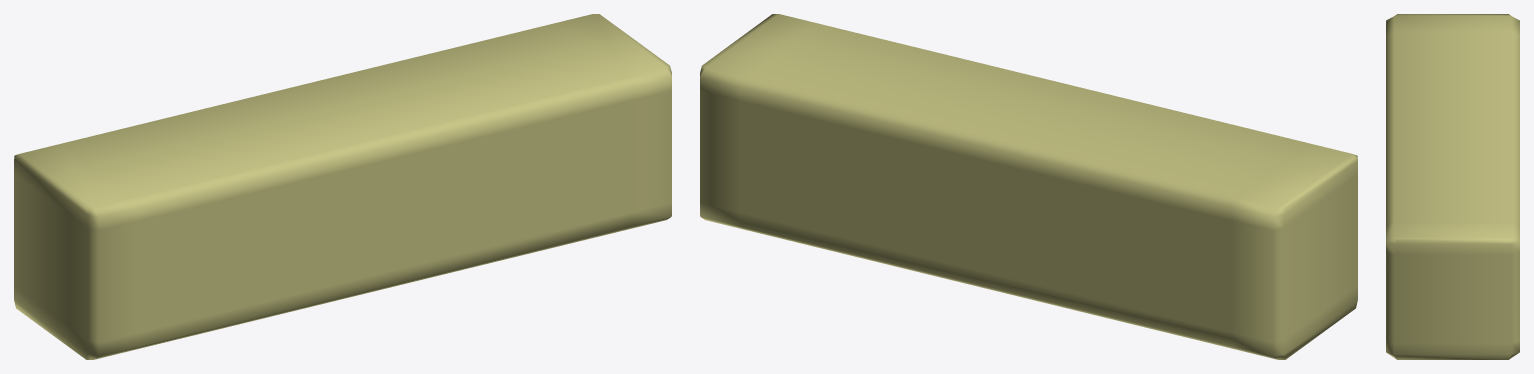
The model's file is ITetris.obj.
3 renders of one model, left to right at view 1: azimuth 30°, elevation 25°; view 2: azimuth 150°, elevation 25°; view 3: azimuth 270°, elevation 25°, orthographic. The views are drawn at different scales.
Parts seen in each view (by area): view 1: Cube_Cube_Material; view 2: Cube_Cube_Material; view 3: Cube_Cube_Material.
Boxes of the visible parts, bbox=[...] form: Cube_Cube_Material: bbox=[14, 14, 671, 359]; Cube_Cube_Material: bbox=[700, 14, 1357, 359]; Cube_Cube_Material: bbox=[1386, 14, 1519, 359].
Bounding box in the file's own units: 4 × 0.9943 × 1.
